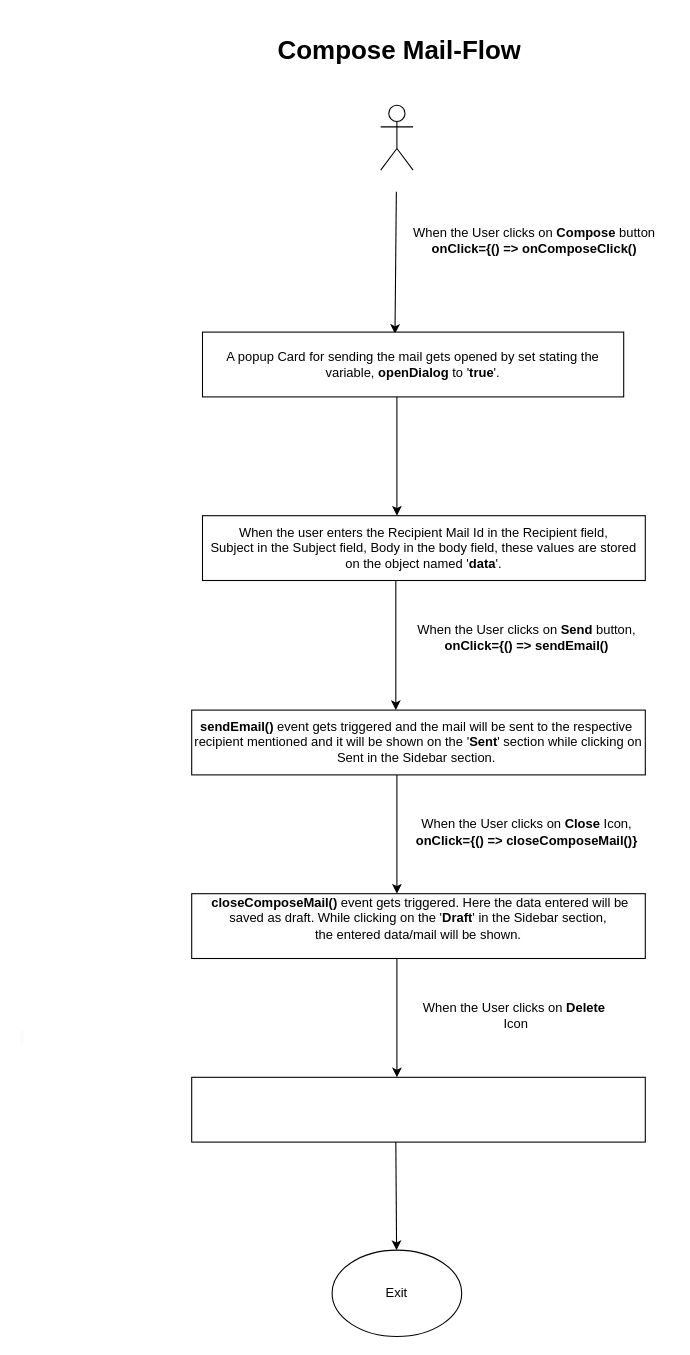
Some shapes in this 690 by 1355 pixel diagram are drawn without their labels. Each missing label, with the centre of its shape:
The popup card gets closed by set stating the variable openDialog to 'false'.: the point at 418,1109
User: the point at 396,137
